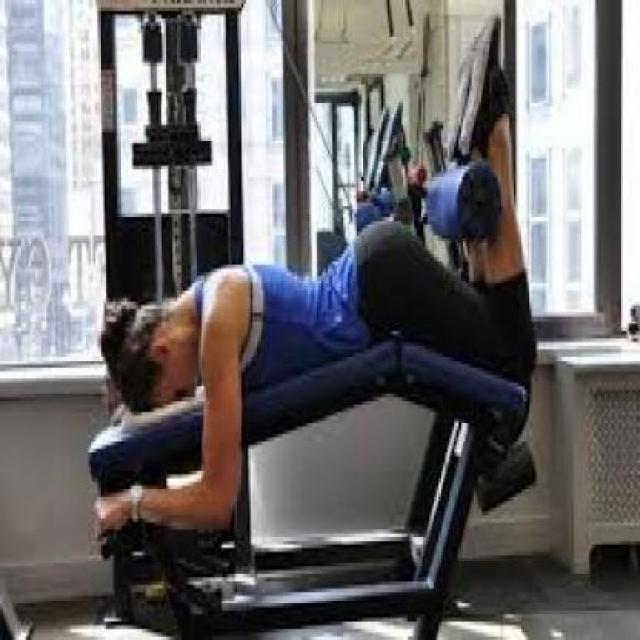reg curl machine: (84, 0, 538, 640)
